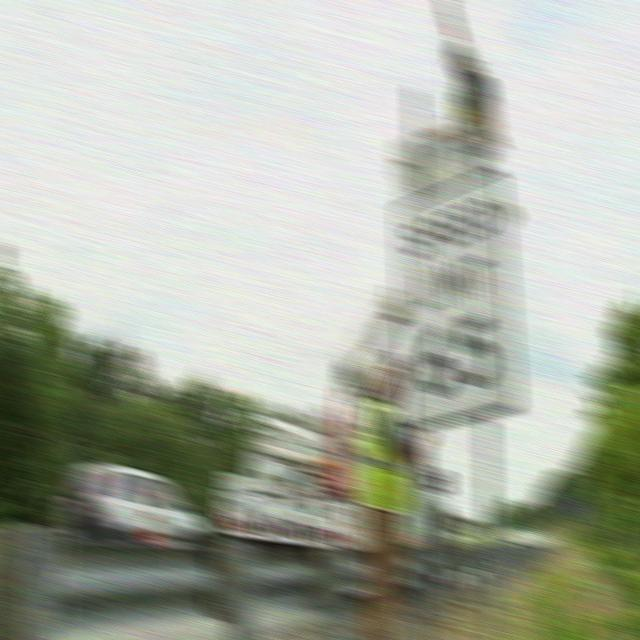speedLimit65: (392, 163, 522, 434)
